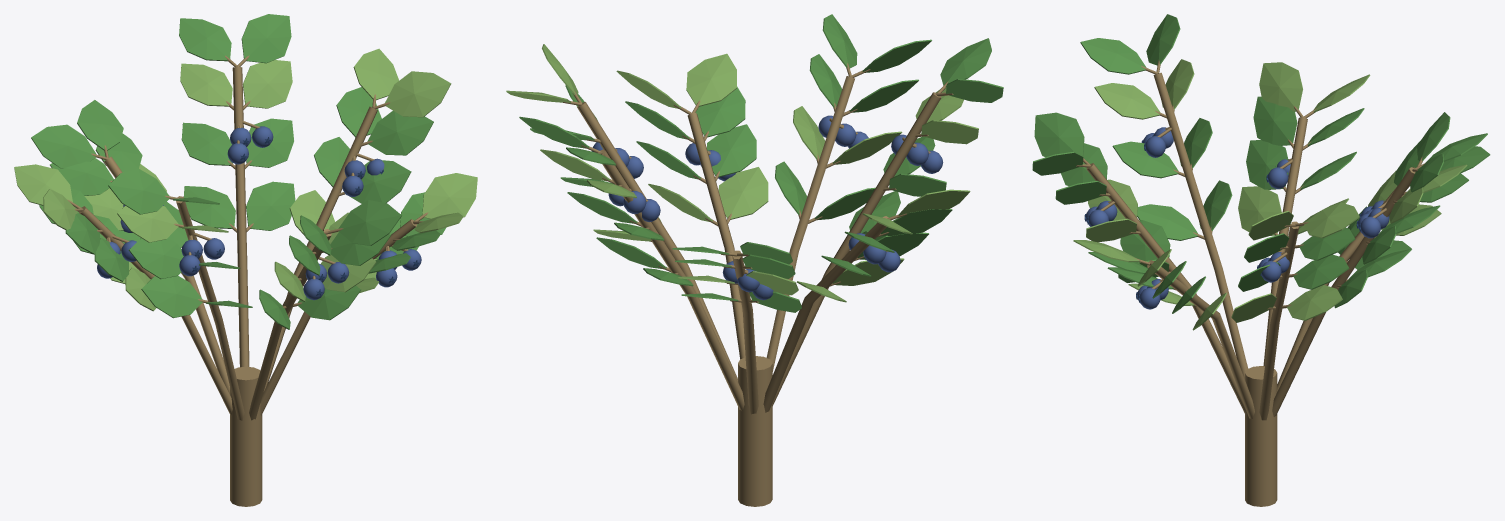
Rendered from bush_blueberry.glb.
The picture shows the model from 3 angles, left to right: view 1: azimuth 30°, elevation 25°; view 2: azimuth 150°, elevation 25°; view 3: azimuth 270°, elevation 25°; orthographic projection. The views are drawn at different scales.
Parts seen in each view (by area): view 1: Blueberry grounded woody base, Blueberry rising woody branch 2, Blueberry leaf sprig terminal leaf.006, Blueberry leaf sprig terminal leaf.014, Blueberry leaf sprig terminal leaf.012, Blueberry leaf sprig terminal leaf.004, Blueberry leaf sprig terminal leaf.055, Blueberry leaf sprig terminal leaf.008, Blueberry leaf sprig terminal leaf.047, Blueberry leaf sprig terminal leaf.023, Blueberry leaf sprig terminal leaf.038, Blueberry rising woody branch 5 (+37 smaller); view 2: Blueberry grounded woody base, Blueberry rising woody branch 5, Blueberry rising woody branch 6, Blueberry rising woody branch 2, Blueberry rising woody branch 7, Blueberry rising woody branch 4, Blueberry leaf sprig terminal leaf.054, Blueberry rising woody branch 1, Blueberry leaf sprig terminal leaf.048, Blueberry leaf sprig terminal leaf.050, Blueberry rising woody branch 3, Blueberry leaf sprig terminal leaf.052 (+30 smaller); view 3: Blueberry grounded woody base, Blueberry rising woody branch 5, Blueberry rising woody branch 6, Blueberry rising woody branch 2, Blueberry leaf sprig terminal leaf.046, Blueberry rising woody branch 1, Blueberry leaf sprig terminal leaf.031, Blueberry leaf sprig terminal leaf.029, Blueberry rising woody branch 7, Blueberry leaf sprig terminal leaf.039, Blueberry leaf sprig terminal leaf.037, Blueberry leaf sprig terminal leaf.025 (+36 smaller).
Boxes of the visible parts, box(x1,y1,x2,y2) form: Blueberry grounded woody base: box(230, 366, 262, 506); Blueberry rising woody branch 2: box(232, 67, 249, 367); Blueberry leaf sprig terminal leaf.006: box(385, 71, 451, 117); Blueberry leaf sprig terminal leaf.014: box(241, 14, 291, 63); Blueberry leaf sprig terminal leaf.012: box(243, 60, 292, 108); Blueberry leaf sprig terminal leaf.004: box(367, 111, 433, 155); Blueberry leaf sprig terminal leaf.055: box(422, 173, 477, 218); Blueberry leaf sprig terminal leaf.008: box(246, 181, 295, 230); Blueberry leaf sprig terminal leaf.047: box(338, 200, 401, 245); Blueberry leaf sprig terminal leaf.023: box(31, 124, 96, 168); Blueberry leaf sprig terminal leaf.038: box(108, 168, 169, 214); Blueberry rising woody branch 5: box(176, 196, 244, 420); Blueberry grounded woody base: box(738, 356, 772, 506); Blueberry rising woody branch 5: box(772, 92, 941, 405); Blueberry rising woody branch 6: box(766, 76, 854, 371); Blueberry rising woody branch 2: box(600, 149, 744, 411); Blueberry rising woody branch 7: box(687, 112, 745, 359); Blueberry rising woody branch 4: box(763, 216, 888, 412); Blueberry leaf sprig terminal leaf.054: box(686, 53, 736, 106); Blueberry rising woody branch 1: box(577, 102, 737, 381); Blueberry leaf sprig terminal leaf.048: box(718, 167, 768, 219); Blueberry leaf sprig terminal leaf.050: box(706, 124, 756, 177); Blueberry rising woody branch 3: box(732, 250, 758, 414); Blueberry leaf sprig terminal leaf.052: box(695, 86, 745, 137); Blueberry grounded woody base: box(1245, 366, 1277, 506); Blueberry rising woody branch 5: box(1153, 72, 1248, 378); Blueberry rising woody branch 6: box(1086, 163, 1245, 413); Blueberry rising woody branch 2: box(1272, 167, 1415, 416); Blueberry leaf sprig terminal leaf.046: box(1034, 112, 1084, 157); Blueberry rising woody branch 1: box(1259, 221, 1299, 420); Blueberry leaf sprig terminal leaf.031: box(1259, 62, 1302, 111); Blueberry leaf sprig terminal leaf.029: box(1253, 96, 1297, 145); Blueberry rising woody branch 7: box(1147, 260, 1254, 418); Blueberry leaf sprig terminal leaf.039: box(1080, 38, 1146, 74); Blueberry leaf sprig terminal leaf.037: box(1094, 83, 1160, 119); Blueberry leaf sprig terminal leaf.025: box(1238, 186, 1281, 235).
Bounding box in the file's own units: 1.06 × 1.01 × 1.04.
